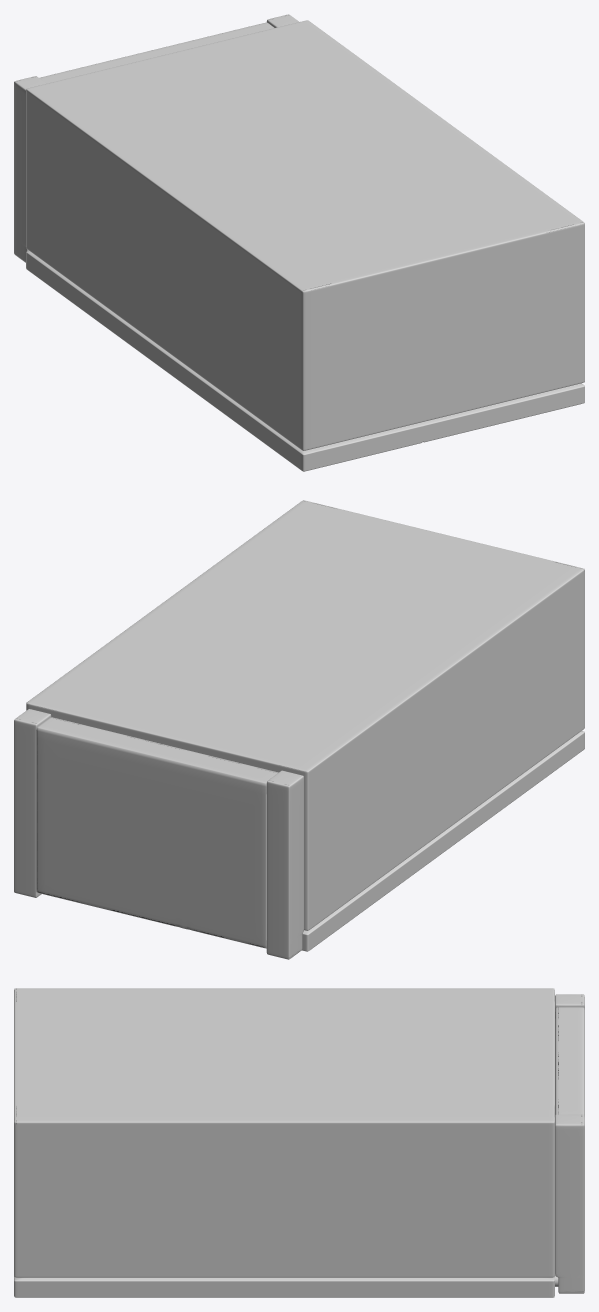
The model's file is refrigerator.obj.
3 renders of one model, top to bottom at view 1: azimuth 30°, elevation 25°; view 2: azimuth 150°, elevation 25°; view 3: azimuth 270°, elevation 25°, orthographic. The views are drawn at different scales.
Visible parts, largest first — view 1: refrigerator_body, refrigerator_doors, refrigerator_stand; view 2: refrigerator_body, refrigerator_stand, refrigerator_doors; view 3: refrigerator_body, refrigerator_doors, refrigerator_stand.
Boxes of the visible parts, box(x1,y1,x2,y2) form: refrigerator_body: box(26, 20, 584, 450); refrigerator_doors: box(26, 251, 584, 471); refrigerator_stand: box(14, 14, 298, 262); refrigerator_body: box(26, 500, 584, 930); refrigerator_stand: box(14, 709, 303, 959); refrigerator_doors: box(302, 731, 584, 951); refrigerator_body: box(14, 988, 554, 1277); refrigerator_doors: box(14, 1276, 554, 1297); refrigerator_stand: box(555, 994, 584, 1293).
Size of the model in its own units: 111 by 74.25 by 199.
5 materials, 4 textured.
